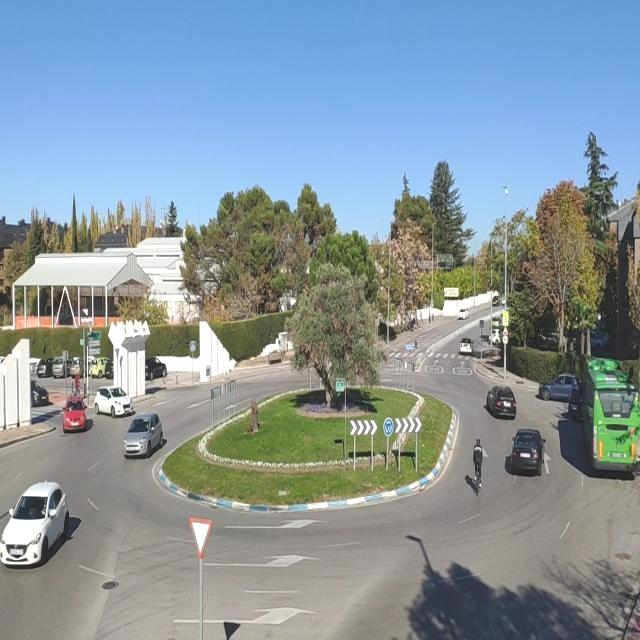Car: (0, 481, 70, 567), (122, 413, 165, 459), (509, 428, 546, 474), (538, 372, 580, 402), (94, 386, 134, 417), (486, 385, 516, 418), (62, 398, 88, 432), (66, 356, 92, 378), (567, 384, 583, 418), (144, 358, 167, 380), (88, 357, 112, 378), (31, 381, 49, 406), (51, 356, 71, 378), (590, 329, 610, 350), (36, 358, 55, 378), (459, 338, 473, 354), (104, 357, 114, 379), (490, 330, 502, 346), (492, 316, 503, 330), (457, 308, 469, 320), (492, 295, 500, 306), (501, 298, 507, 307)
Cycle: (471, 452, 484, 494)
